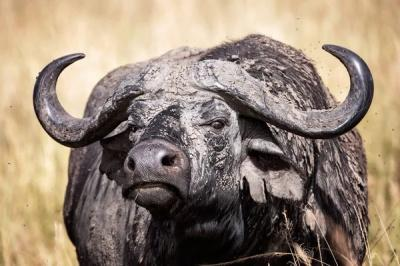buffalo: (34, 34, 372, 265)
